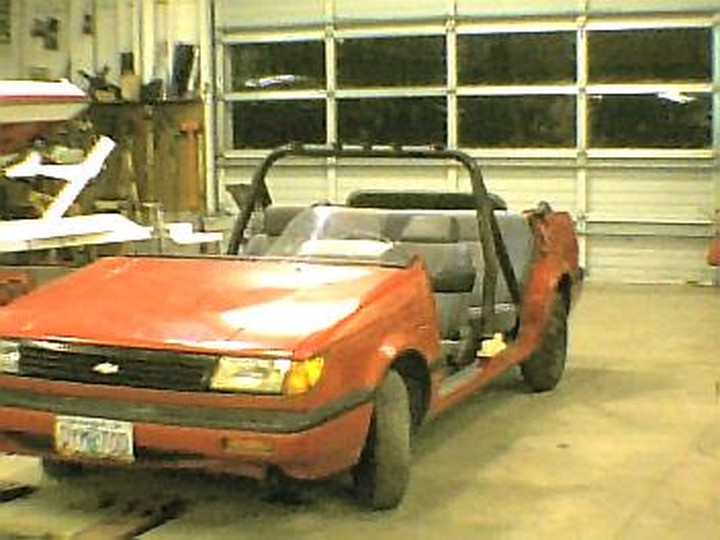car: (1, 136, 587, 515)
